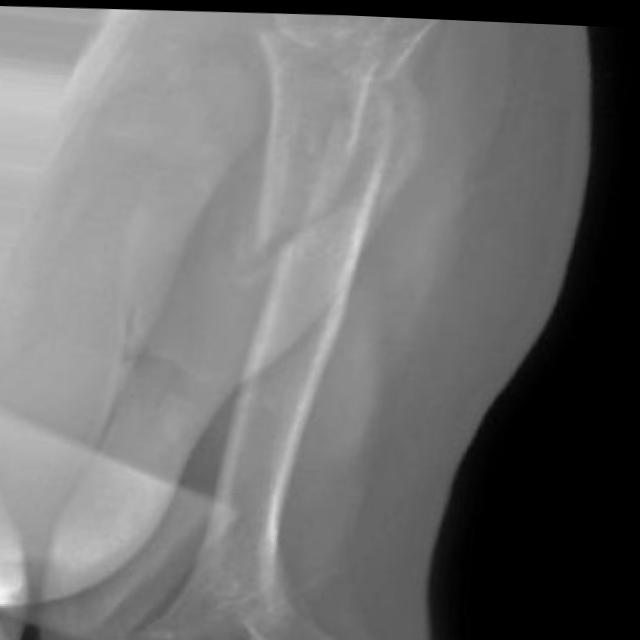fracture: (246, 161, 403, 268)
